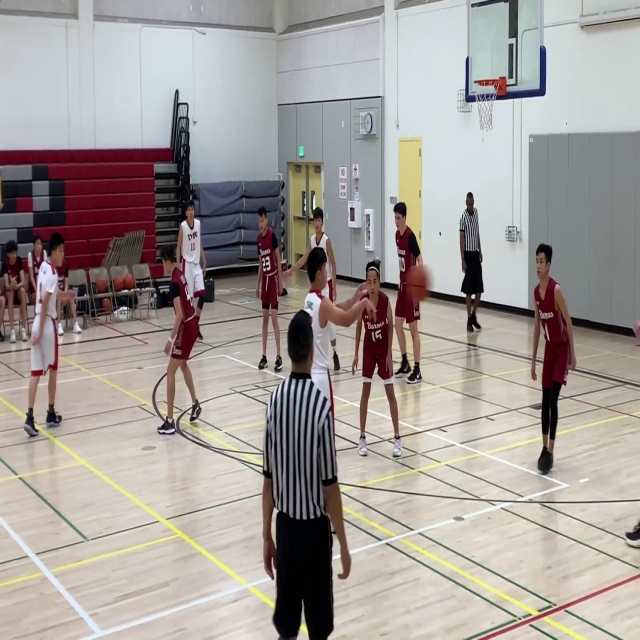Basketball: (405, 264, 428, 301), (123, 273, 134, 290), (113, 275, 124, 291), (95, 278, 107, 292), (102, 298, 112, 311)
